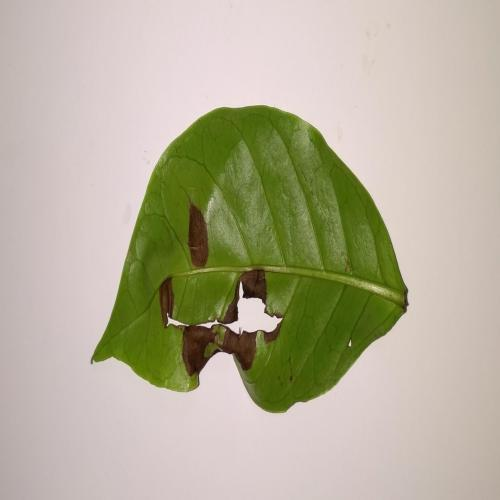miner: (189, 203, 208, 266)
